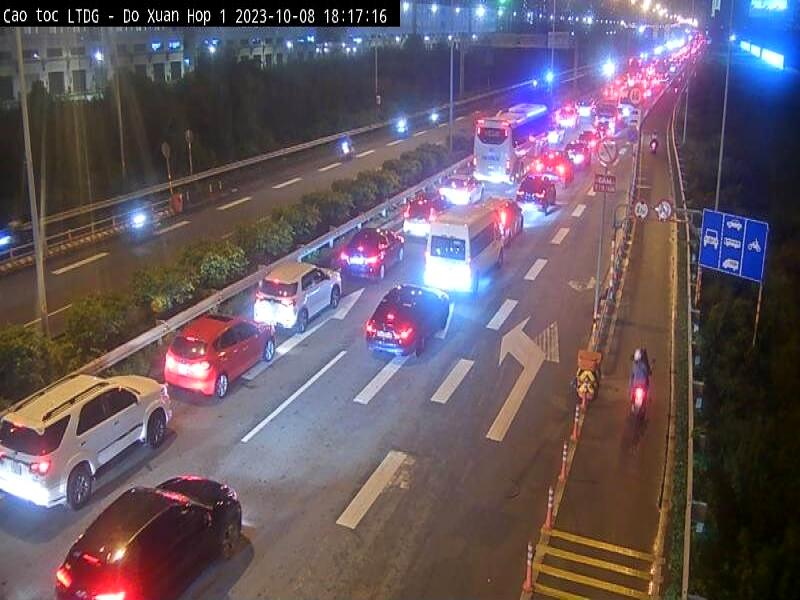car: (4, 370, 184, 522), (43, 474, 246, 594), (162, 305, 274, 401), (424, 188, 502, 315), (361, 280, 443, 372), (246, 256, 341, 334), (341, 212, 410, 297)
